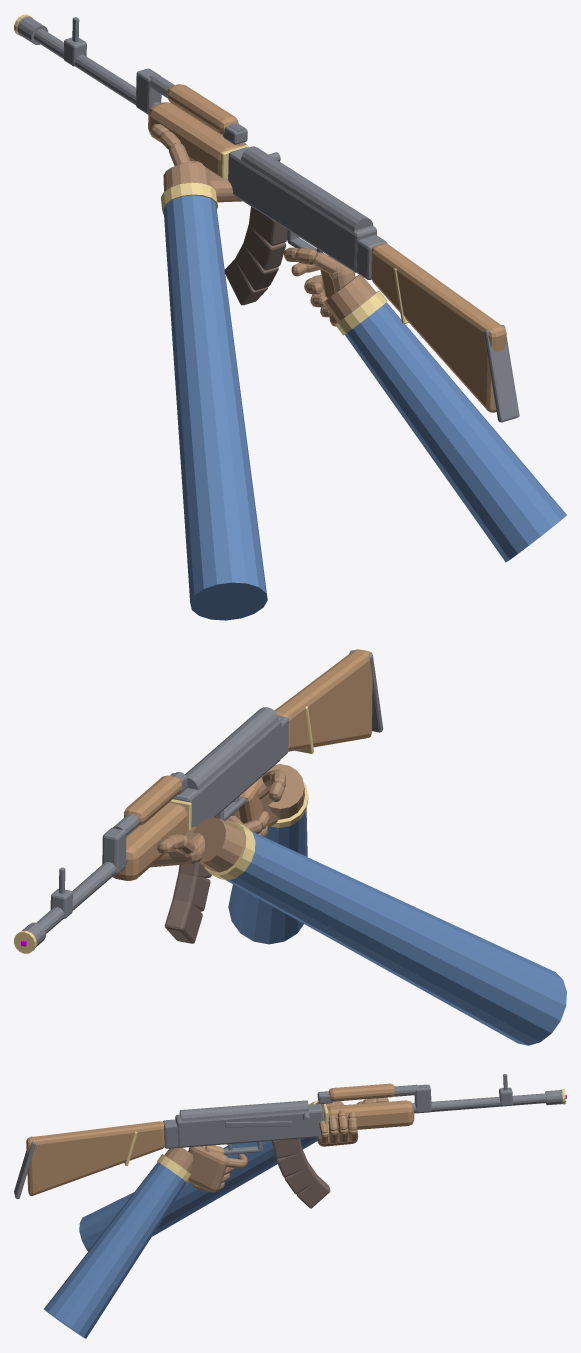
Rendered from FlyHigh_AK47VM.fbx.
3 renders of one model, top to bottom at view 1: azimuth 30°, elevation 25°; view 2: azimuth 150°, elevation 25°; view 3: azimuth 270°, elevation 25°, orthographic. The views are drawn at different scales.
Visible parts, largest first — view 1: AK47VM_Sleeve, AK47_Steel, AK47_Wood, AK47VM_Glove, AK47_Mag, AK47VM_Cuff; view 2: AK47VM_Sleeve, AK47_Wood, AK47_Steel, AK47VM_Glove, AK47_Mag, AK47VM_Cuff, AK47_Gold; view 3: AK47VM_Sleeve, AK47_Steel, AK47_Wood, AK47VM_Glove, AK47_Mag, AK47VM_Cuff.
Boxes of the visible parts, x1,y1,x2,y2 form: AK47VM_Sleeve: [163, 195, 566, 620]; AK47_Steel: [17, 16, 519, 422]; AK47_Wood: [148, 84, 506, 412]; AK47VM_Glove: [151, 124, 376, 322]; AK47_Mag: [224, 206, 287, 305]; AK47VM_Cuff: [161, 182, 387, 335]; AK47VM_Sleeve: [226, 809, 566, 1045]; AK47_Wood: [112, 649, 372, 880]; AK47_Steel: [22, 650, 383, 946]; AK47VM_Glove: [150, 764, 304, 872]; AK47_Mag: [164, 814, 218, 943]; AK47VM_Cuff: [204, 782, 308, 880]; AK47_Gold: [14, 706, 313, 953]; AK47VM_Sleeve: [44, 1137, 317, 1338]; AK47_Steel: [14, 1074, 562, 1198]; AK47_Wood: [26, 1083, 414, 1195]; AK47VM_Glove: [164, 1097, 388, 1192]; AK47_Mag: [272, 1138, 330, 1208]; AK47VM_Cuff: [157, 1100, 318, 1182].
Size of the model in its own units: 1.33 by 1.29 by 2.76.
